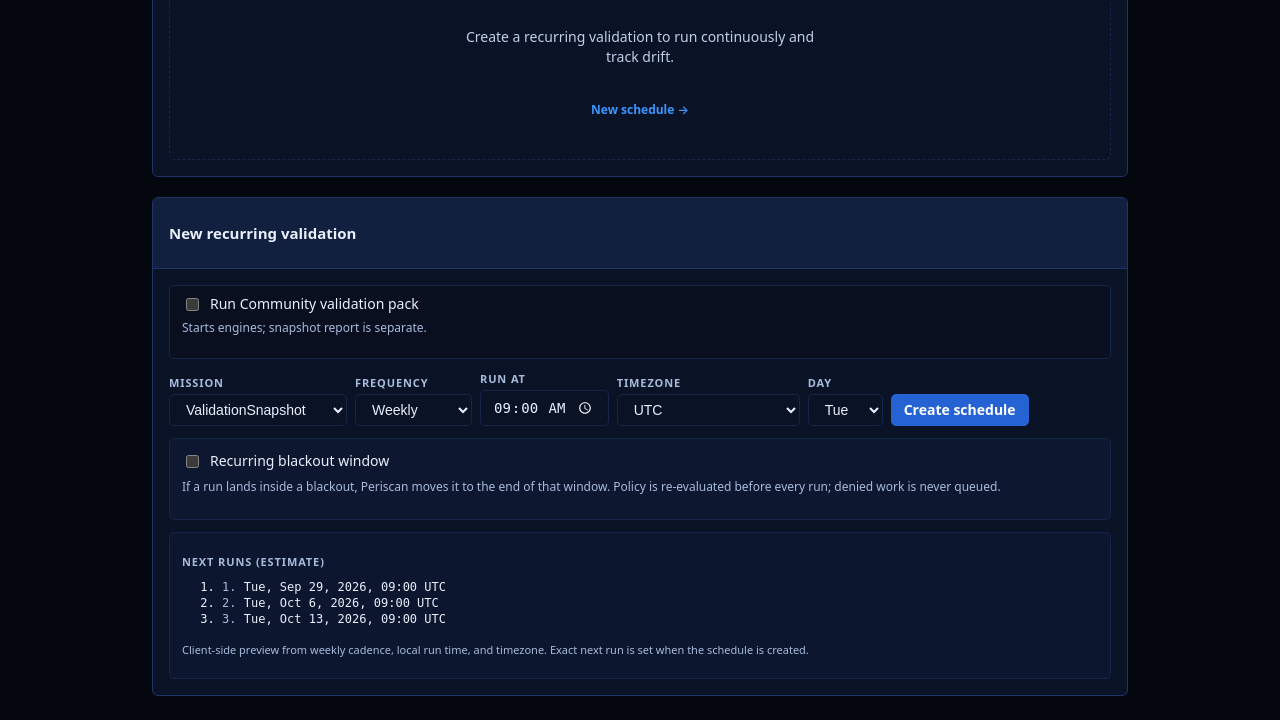
it: SchedulesWorkbench › states continuous EASM honesty: verified scopes only, not a living map
(page scrolled)
Check: the element with test id "schedules-create-form" is shown, box [152, 197, 1128, 696]
Note: Selecting ContinuousValidation surfaces the Wave C allowlist honesty callout.
Select "ContinuousValidation" in the dropdown showing "ValidationSnapshot". click: (258, 410)
box: [169, 394, 347, 426]
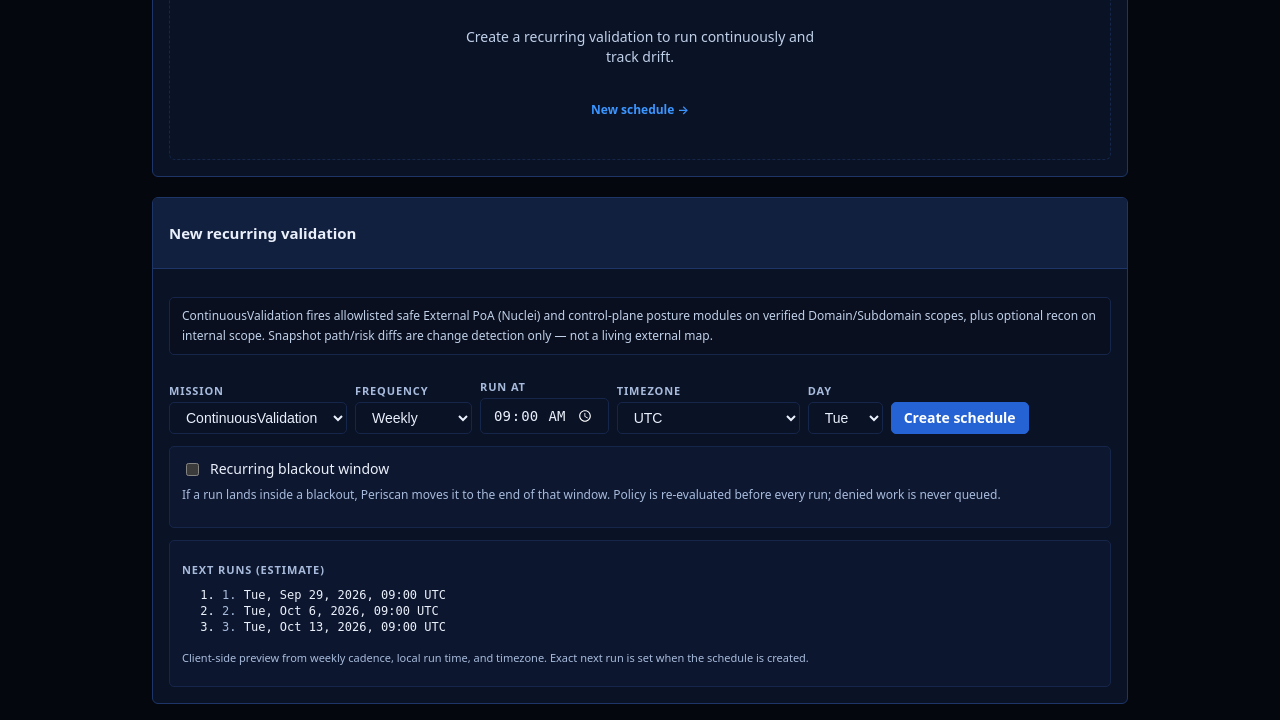
Check: the text with test id "continuous-easm-schedule-note" shows "allowlisted safe", box [182, 307, 1096, 344]
Check: the text with test id "continuous-easm-schedule-note" shows "verified Domain/Subdomain", box [182, 307, 1096, 344]
Check: the text with test id "continuous-easm-schedule-note" shows "not a living external map", box [182, 307, 1096, 344]
